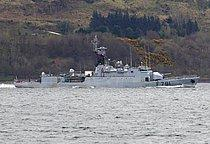MIL_Ship: (10, 35, 202, 90)
